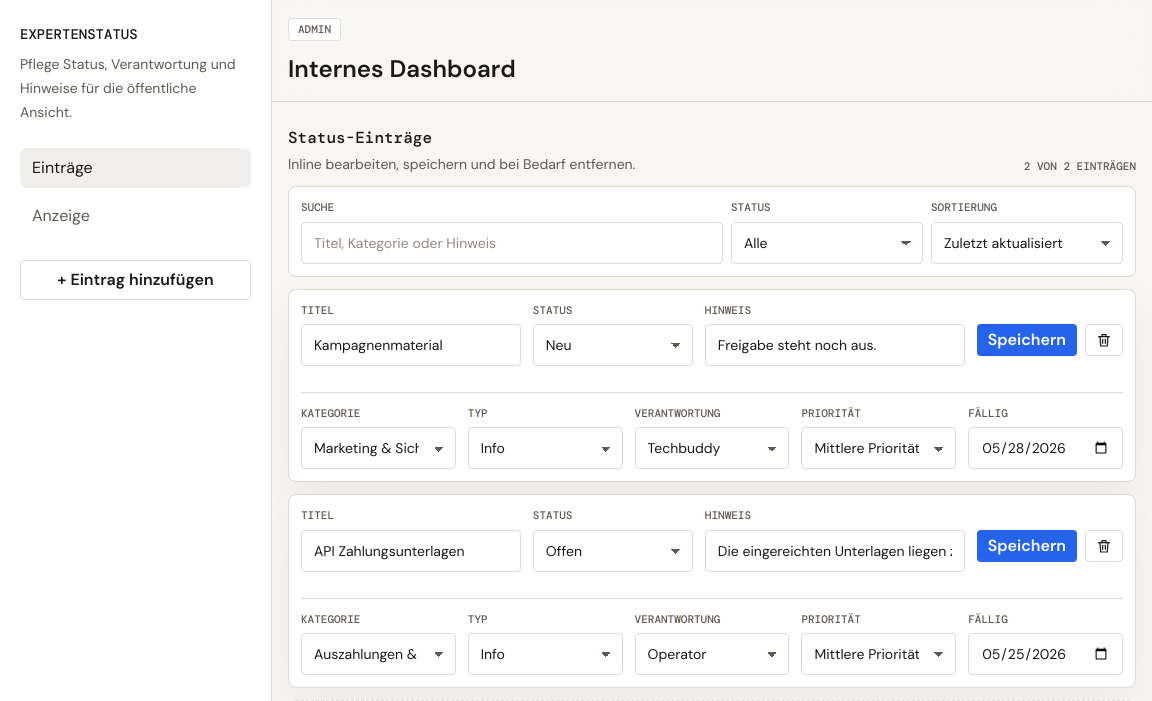
Test: filters status entries by search text
The image size is (1152, 701).
Expected: the heading "Internes Dashboard" is shown, [288,53,516,85]
Type "Kampagnen" into the field with placeholder "Titel, Kategorie oder Hinweis". click: [512, 242]
box: [301,222,723,264]
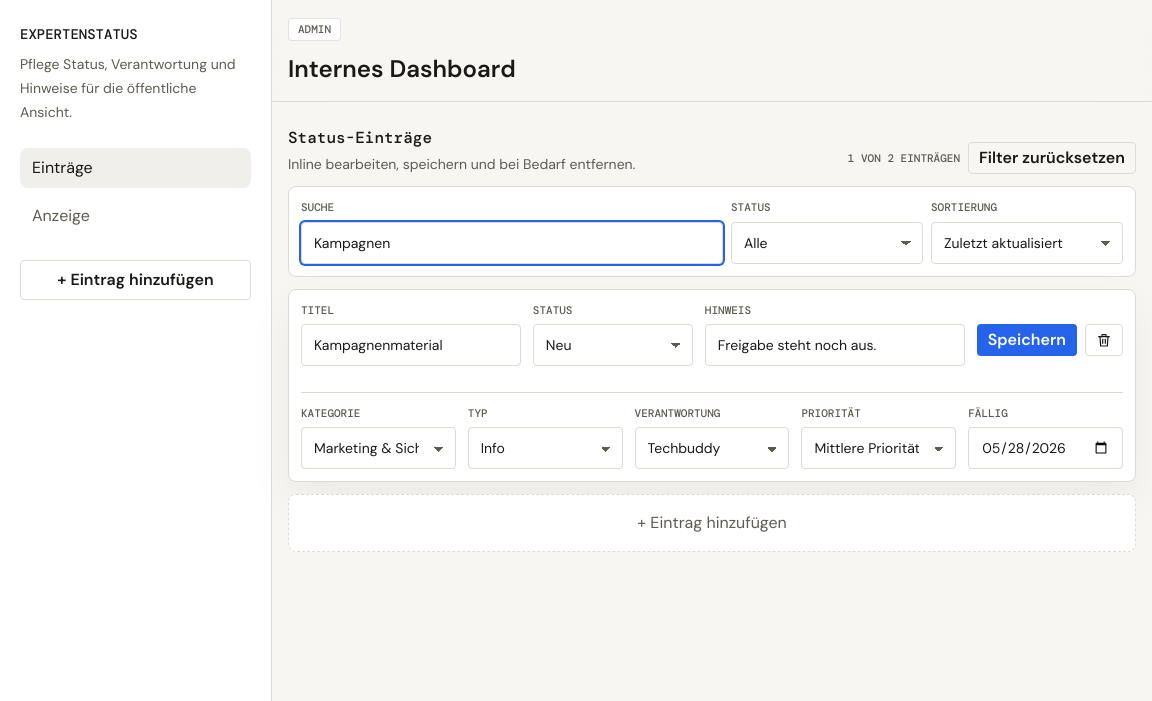
Expected: the heading "API Zahlungsunterlagen" is not shown
Result: the text "1 von 2 Einträgen" is shown at [848,150,960,166]
